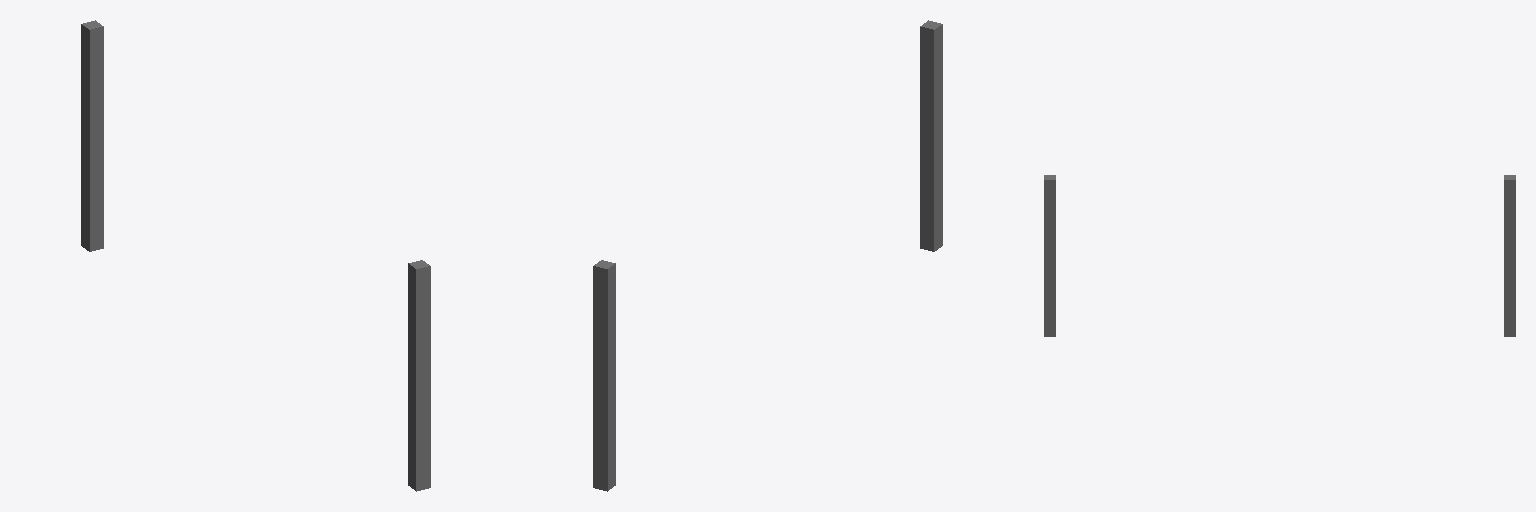
robot.urdf — object:
<?xml version="1.0"?>
<robot name="object">
  <link name="object1">
     <visual>
      <origin xyz="20 4 0.75"/>
      <geometry>
        <box size="0.1 0.1 1.5" />
      </geometry>
      <material name="mat">
        <color rgba="0.5 0.5 0.5 1"/>
      </material>
    </visual>

    <collision>
      <origin xyz="20 4 0.75"/>
      <geometry>
        <box size="0.1 0.1 1.5" />
      </geometry>
    </collision>

    <visual>
      <origin xyz="20 8 0.75"/>
      <geometry>
        <box size="0.1 0.1 1.5" />
      </geometry>
      <material name="mat">
        <color rgba="0.5 0.5 0.5 1"/>
      </material>
    </visual>

    <collision>
      <origin xyz="20 8 0.75"/>
      <geometry>
        <box size="0.1 0.1 1.5" />
      </geometry>
    </collision>

    
  </link>
</robot>

--- Facts derived from the render (not from the file) ---
Views: 3 orthographic renders of the robot side by side, from view 1: azimuth 30°, elevation 25°; view 2: azimuth 150°, elevation 25°; view 3: azimuth 270°, elevation 25°.
Robot: object — 1 links, 0 joints (none); root link object1; default pose: all joints at 0.
Visible links, largest first — view 1: object1; view 2: object1; view 3: object1.
Boxes of the visible links, left/top/right/bottom form: object1: left=81, top=20, right=430, bottom=491; object1: left=593, top=20, right=942, bottom=491; object1: left=1044, top=175, right=1515, bottom=336.
Bounding box of the posed robot: 0.1 × 4.1 × 1.5 m (x, y, z).
Geometry: primitives only (box / cylinder / sphere), no mesh files.
